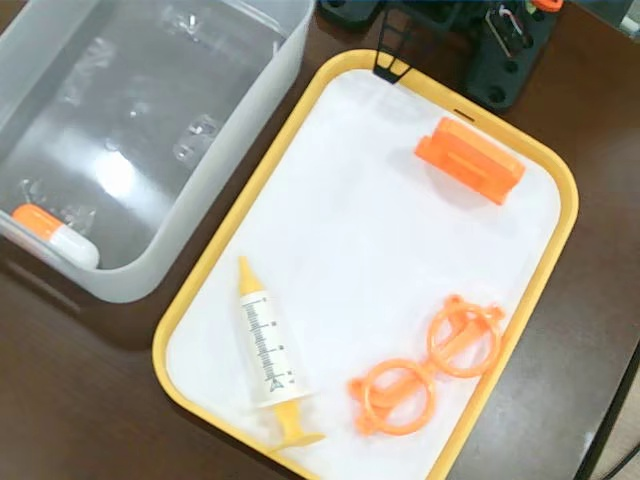pill: (11, 201, 103, 276)
syringe: (229, 248, 325, 457)
